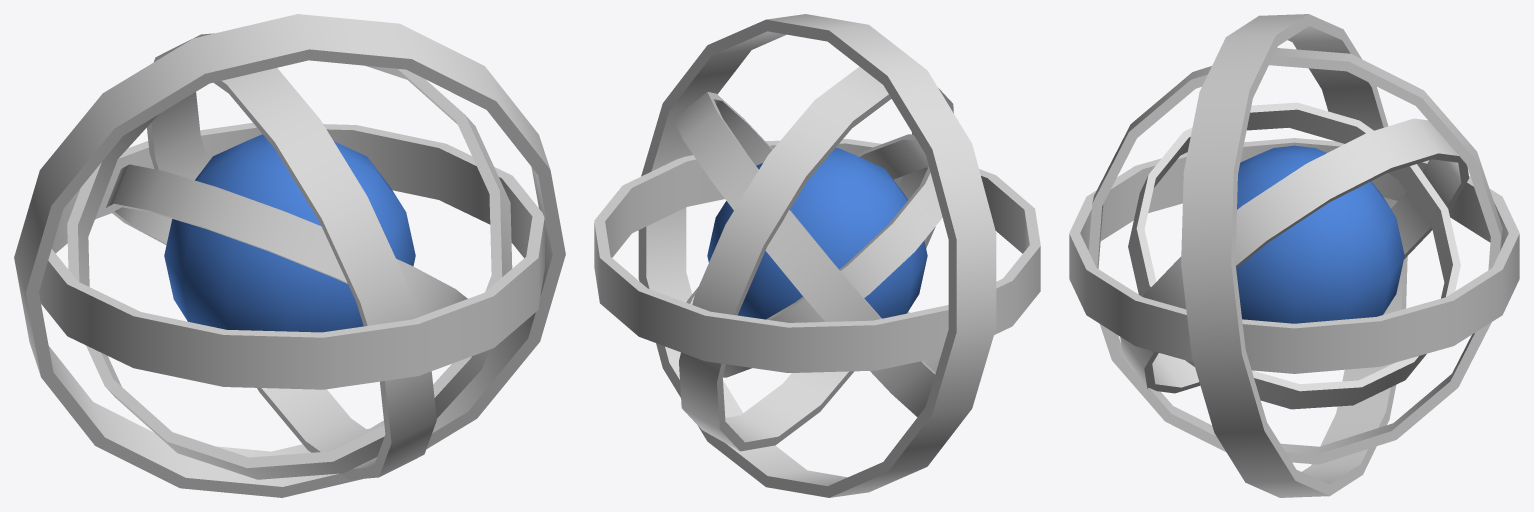
File: Bastion.glb
3 renders of one model, left to right at view 1: azimuth 30°, elevation 25°; view 2: azimuth 150°, elevation 25°; view 3: azimuth 270°, elevation 25°, orthographic. The views are drawn at different scales.
Parts seen in each view (by area): view 1: Cylinder.003, Cylinder, Cylinder.004, Sphere.001, Cylinder.001, Cylinder.002; view 2: Cylinder.003, Cylinder, Cylinder.004, Cylinder.001, Sphere.001, Cylinder.002; view 3: Cylinder.003, Cylinder, Sphere.001, Cylinder.001, Cylinder.004, Cylinder.002.
Part boxes in pixels (x1,y1,x2,y2): Cylinder.003: (14, 14, 565, 497); Cylinder: (39, 122, 544, 389); Cylinder.004: (147, 33, 436, 479); Sphere.001: (164, 134, 415, 332); Cylinder.001: (67, 65, 512, 479); Cylinder.002: (106, 164, 467, 317); Cylinder.003: (638, 14, 996, 497); Cylinder: (594, 139, 1040, 372); Cylinder.004: (679, 66, 953, 451); Cylinder.001: (673, 91, 940, 416); Sphere.001: (707, 148, 927, 319); Cylinder.002: (686, 134, 942, 377); Cylinder.003: (1181, 14, 1407, 497); Cylinder: (1069, 138, 1519, 373); Sphere.001: (1236, 145, 1404, 323); Cylinder.001: (1120, 118, 1469, 393); Cylinder.004: (1088, 48, 1502, 464); Cylinder.002: (1128, 102, 1460, 409).
Size of the model in its own units: 0.4345 by 0.4438 by 0.413.
